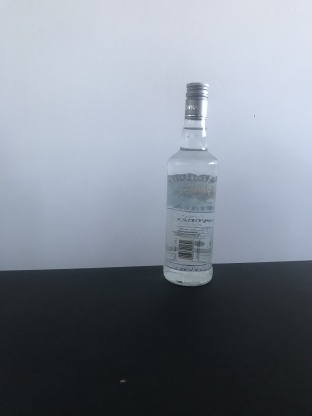nakretka: (183, 79, 210, 120)
